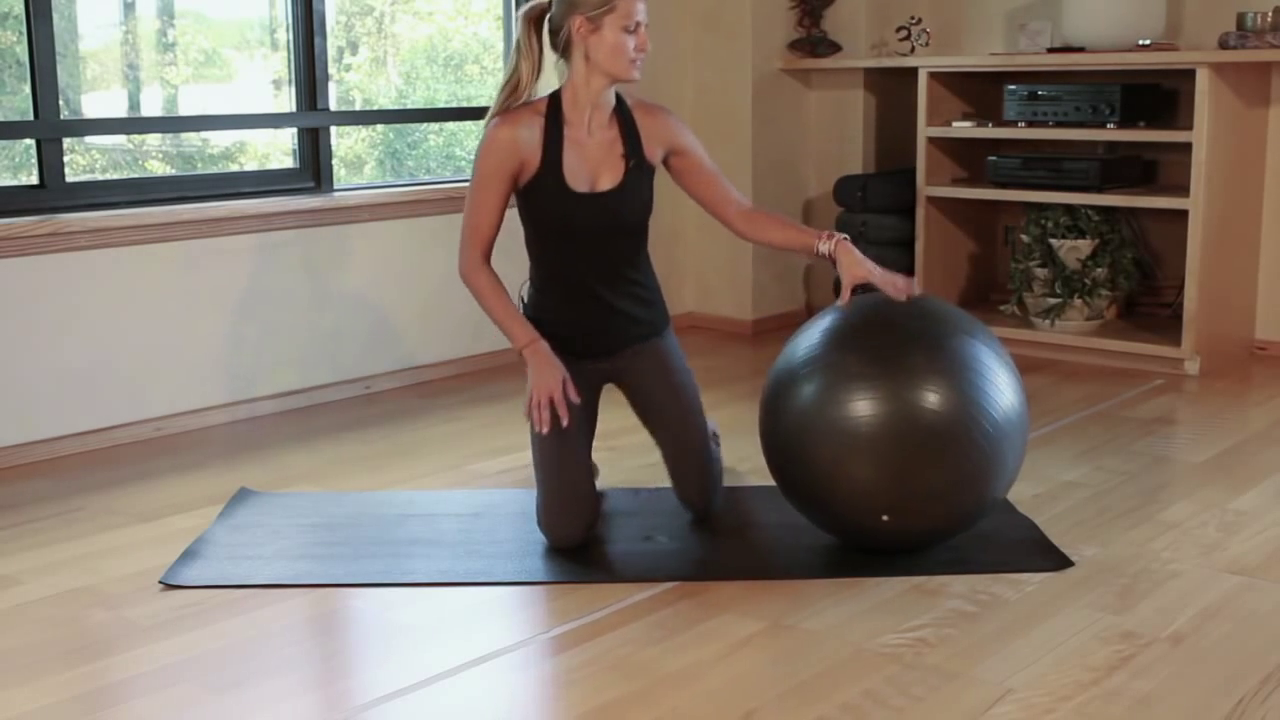yogaball: (753, 288, 1040, 557)
